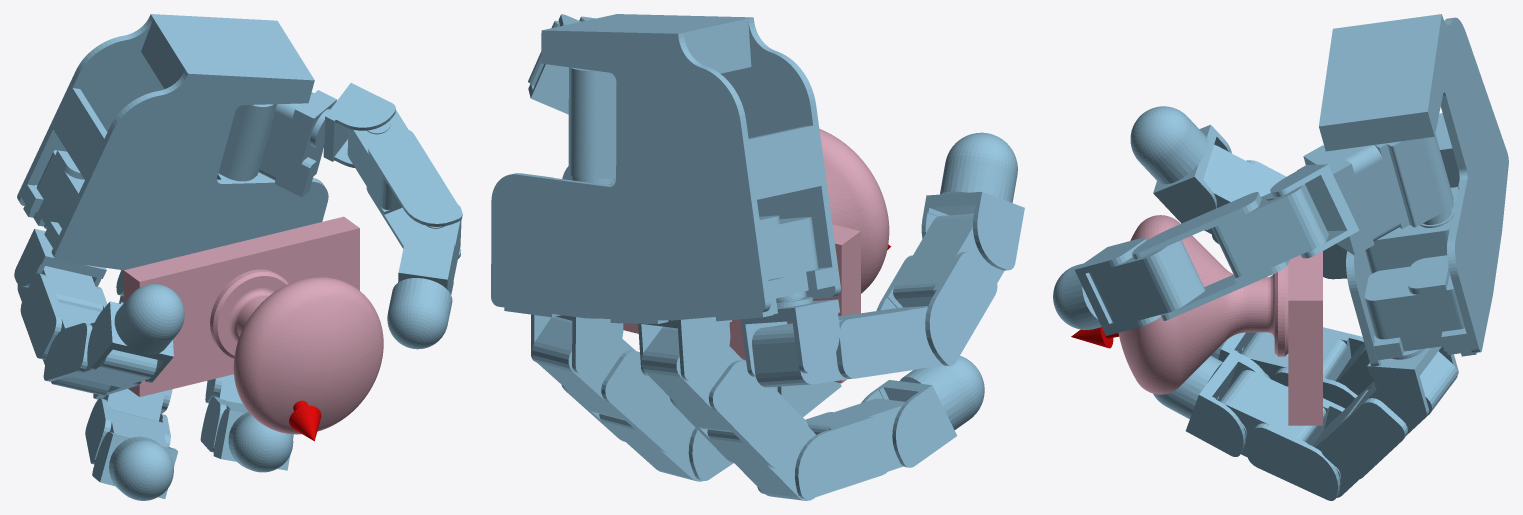
The picture shows the model from 3 angles, left to right: view 1: azimuth 30°, elevation 25°; view 2: azimuth 150°, elevation 25°; view 3: azimuth 270°, elevation 25°; orthographic projection. The views are drawn at different scales.
Parts seen in each view (by area): view 1: world, door_knob.stl; view 2: world, door_knob.stl; view 3: world, door_knob.stl.
Boxes of the visible parts, x1=… form: world: x1=14, y1=14, x2=462, y2=500; door_knob.stl: x1=123, y1=216, x2=383, y2=434; world: x1=491, y1=14, x2=1024, y2=500; door_knob.stl: x1=623, y1=129, x2=889, y2=383; world: x1=1053, y1=14, x2=1508, y2=500; door_knob.stl: x1=1118, y1=215, x2=1322, y2=425.
Size of the model in its own units: 0.1618 by 0.1807 by 0.1651.
